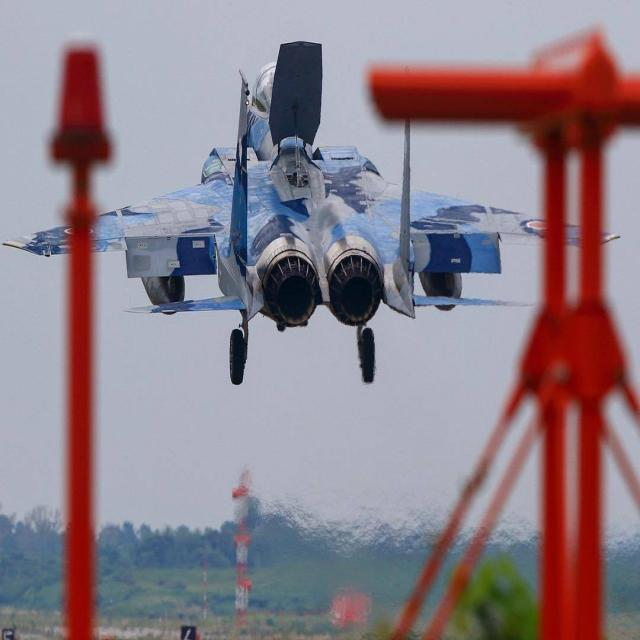MIL_Plane: (1, 41, 622, 386)
